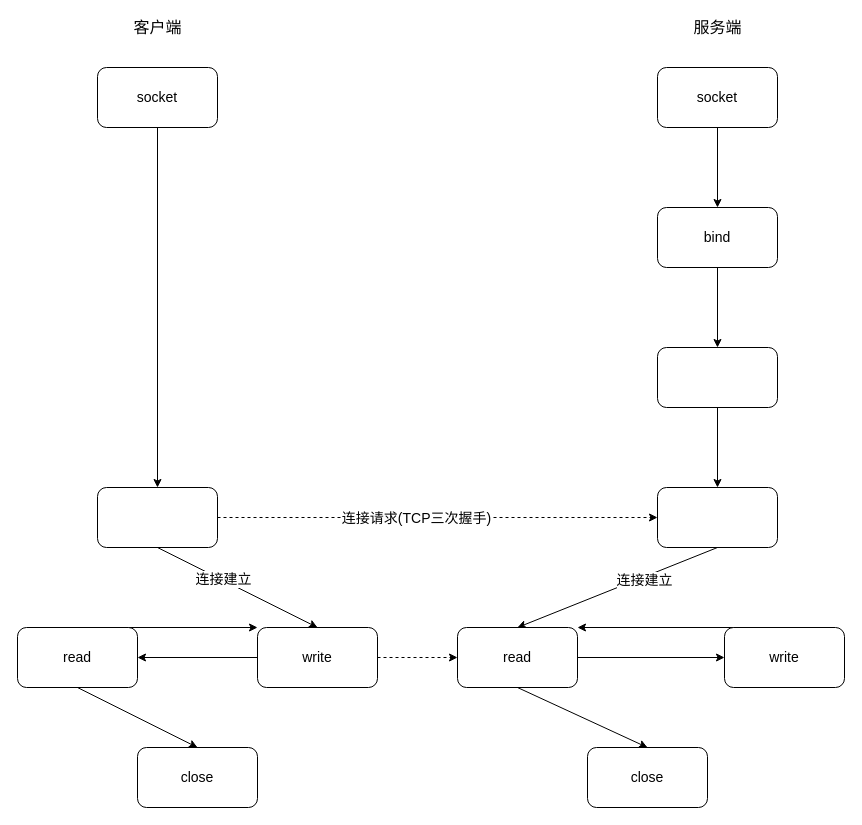
Image size: 862x825. Some labels were removed from this diagram. The centre of each missing label's shape, as x and y in pixels:
accept: the point at 717,517
connect: the point at 157,517
listen: the point at 717,377
